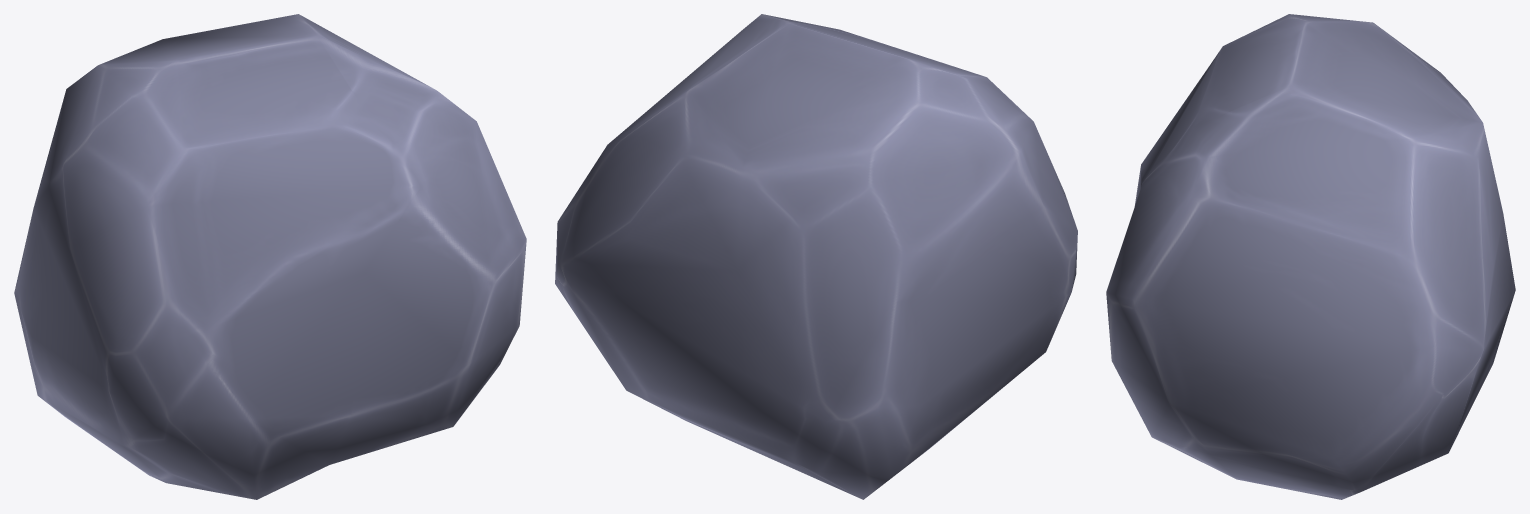
File: Stone_1_Variation_1.fbx
3 views of the same model, side by side, from view 1: azimuth 30°, elevation 25°; view 2: azimuth 150°, elevation 25°; view 3: azimuth 270°, elevation 25° (orthographic). The views are drawn at different scales.
Visible parts, largest first — view 1: Stone_1_Variation_1; view 2: Stone_1_Variation_1; view 3: Stone_1_Variation_1.
Boxes of the visible parts, x1,y1,x2,y2 form: Stone_1_Variation_1: [14, 14, 526, 499]; Stone_1_Variation_1: [555, 14, 1077, 499]; Stone_1_Variation_1: [1106, 14, 1515, 499].
Size of the model in its own units: 107 by 94.47 by 92.35.
